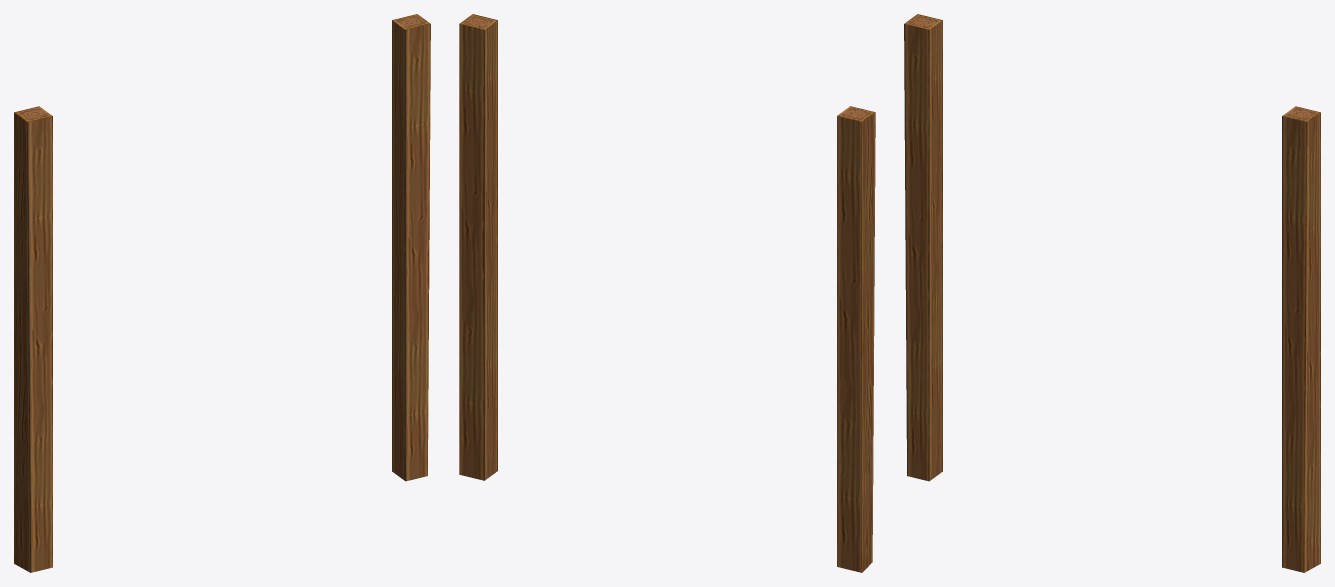
3 views of the same model, side by side, from view 1: azimuth 30°, elevation 25°; view 2: azimuth 150°, elevation 25°; view 3: azimuth 330°, elevation 25° (orthographic).
Parts seen in each view (by area): view 1: Cube.577; view 2: Cube.577; view 3: Cube.577.
Boxes of the visible parts, box(x1,y1,x2,y2) form: Cube.577: box(14, 14, 430, 572); Cube.577: box(459, 14, 875, 572); Cube.577: box(904, 14, 1320, 572).
Size of the model in its own units: 629 by 672 by 36.76.
1 material, 1 textured.
